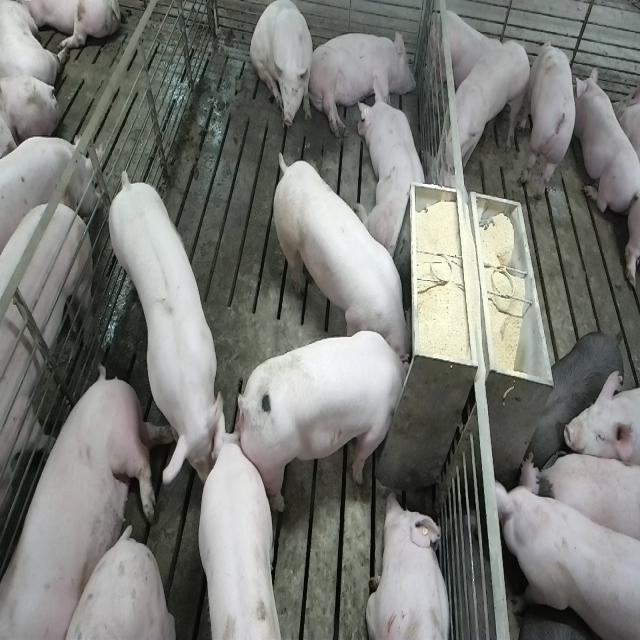Feeding: (243, 329, 419, 512), (269, 144, 410, 360)
Lateral_lying: (3, 366, 163, 640), (308, 28, 417, 141)
Sitting: (250, 2, 315, 136)
Standing: (0, 194, 95, 640), (102, 160, 222, 486), (492, 458, 638, 640), (196, 429, 286, 640), (0, 129, 103, 255), (525, 329, 623, 453), (445, 39, 532, 174), (536, 448, 640, 551), (566, 370, 640, 467)
Sternal_lying: (366, 490, 454, 640), (361, 79, 432, 257), (573, 65, 637, 215)
